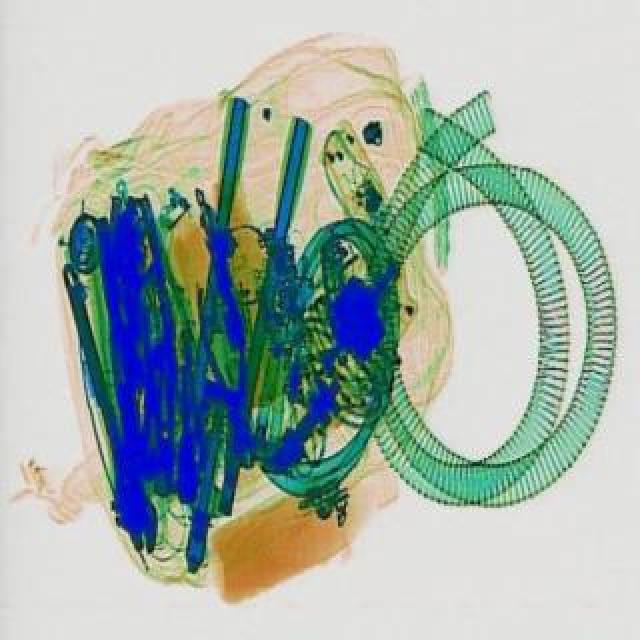scissors: (98, 312, 162, 552)
